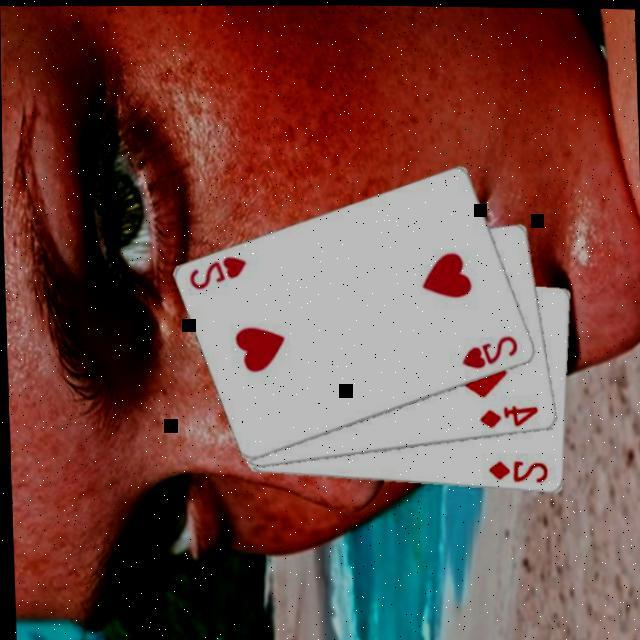2D: (483, 454, 547, 484)
2H: (182, 251, 247, 292), (455, 329, 518, 370)
4D: (474, 399, 538, 429)
